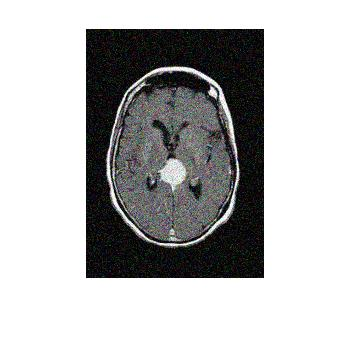Brain_Cancer: (157, 154, 194, 200)
